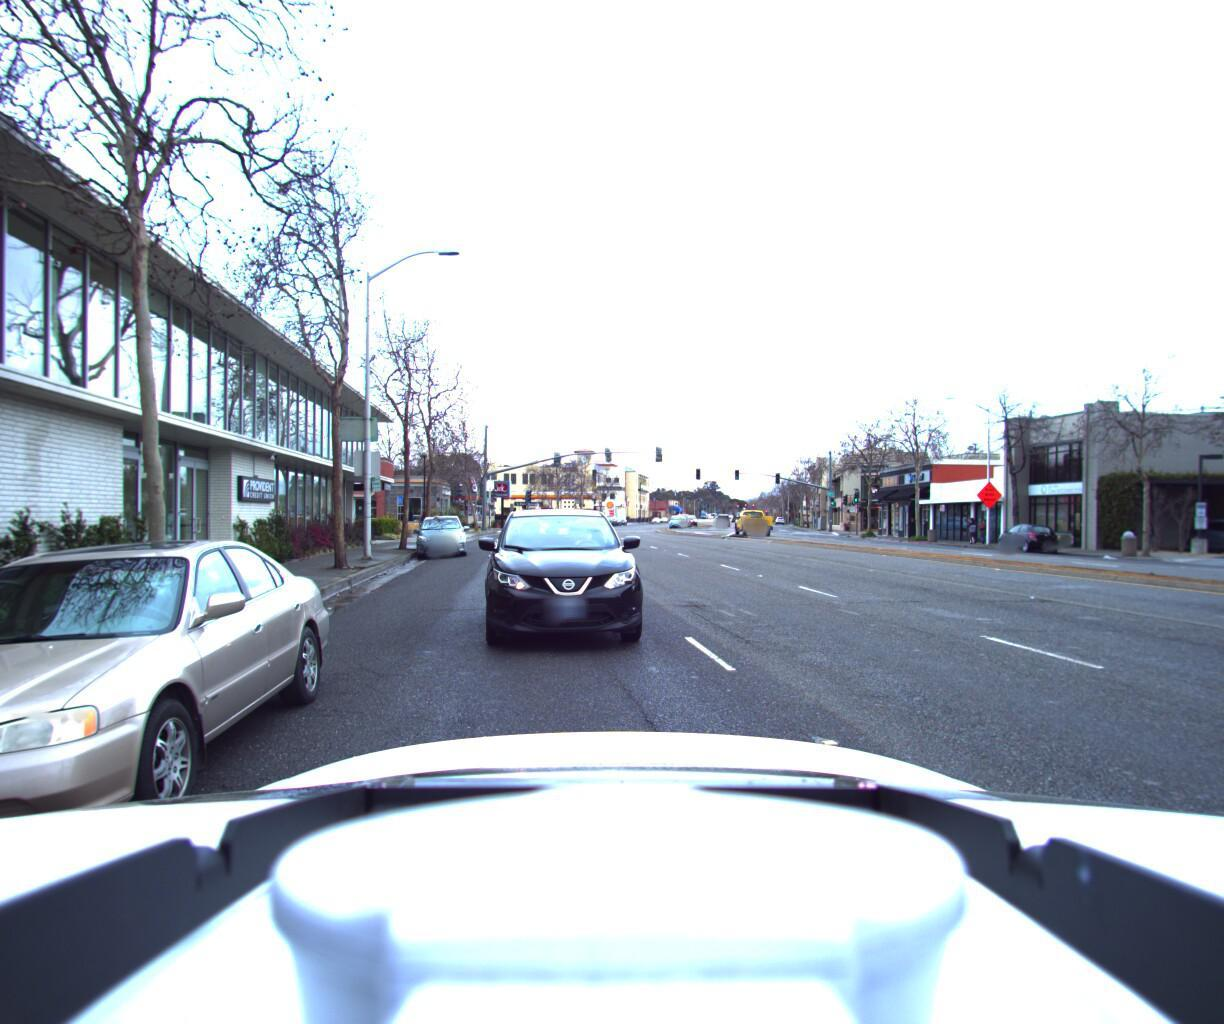car: (0, 527, 340, 956), (482, 501, 652, 658), (984, 525, 1059, 559), (410, 514, 463, 561), (1176, 519, 1224, 563), (733, 507, 776, 538)
